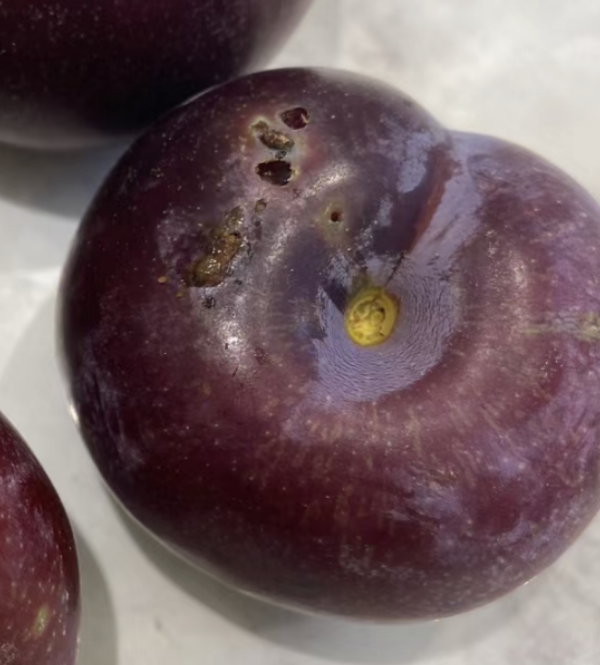plum_C: (56, 65, 600, 625)
